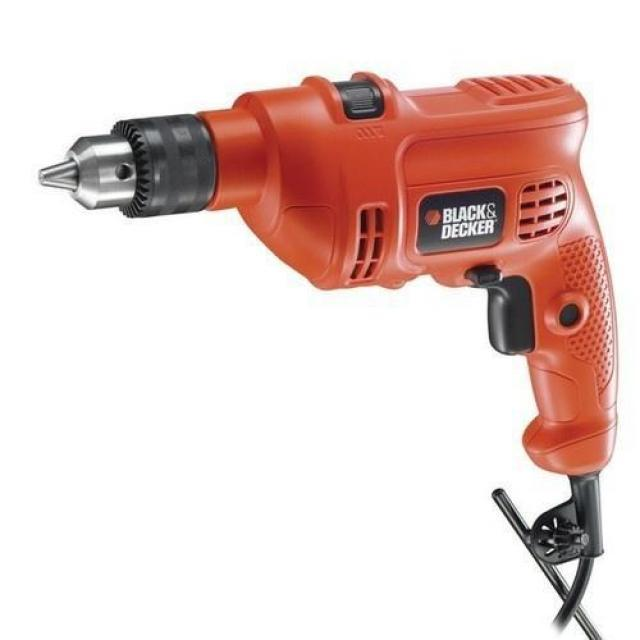drill: (36, 70, 619, 600)
